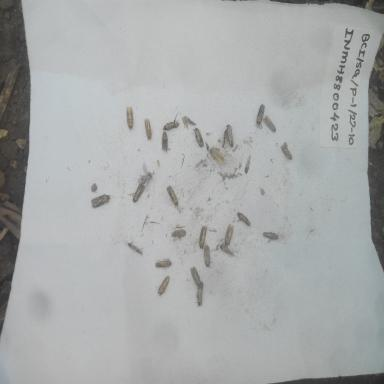pbw: (154, 271, 171, 299), (124, 102, 138, 134), (253, 101, 267, 129), (90, 192, 114, 208), (193, 280, 207, 306), (208, 146, 226, 166), (165, 185, 181, 207), (222, 222, 236, 247), (125, 239, 144, 257), (235, 209, 252, 229), (130, 183, 147, 202), (192, 126, 206, 149), (280, 140, 294, 162), (262, 114, 277, 134), (170, 226, 187, 243), (202, 244, 213, 270), (220, 244, 239, 258), (160, 129, 170, 155), (198, 224, 208, 250), (163, 118, 181, 132), (190, 265, 202, 286), (144, 116, 154, 141), (243, 154, 254, 176), (154, 257, 174, 268), (220, 127, 230, 149), (262, 229, 280, 241), (226, 121, 236, 142)
